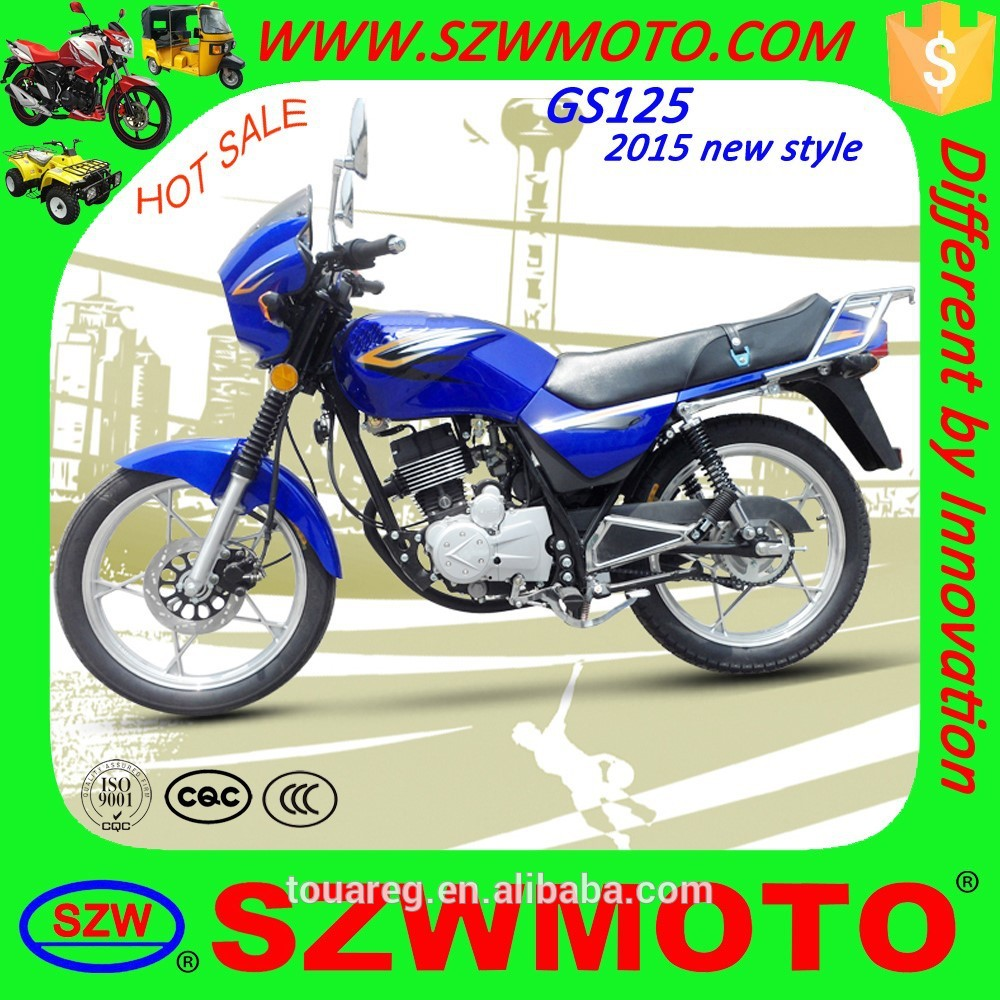motorbike: (70, 218, 904, 745)
